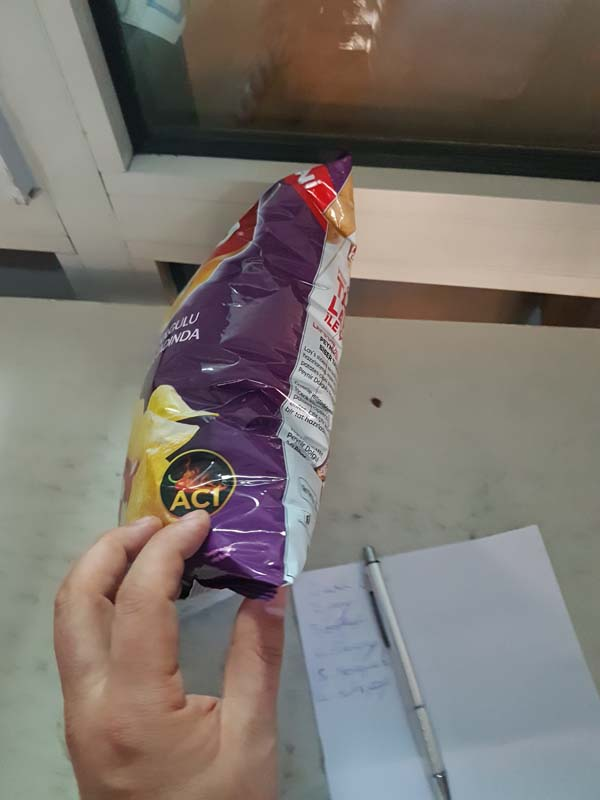layspeynirsoslu: (122, 155, 362, 589)
